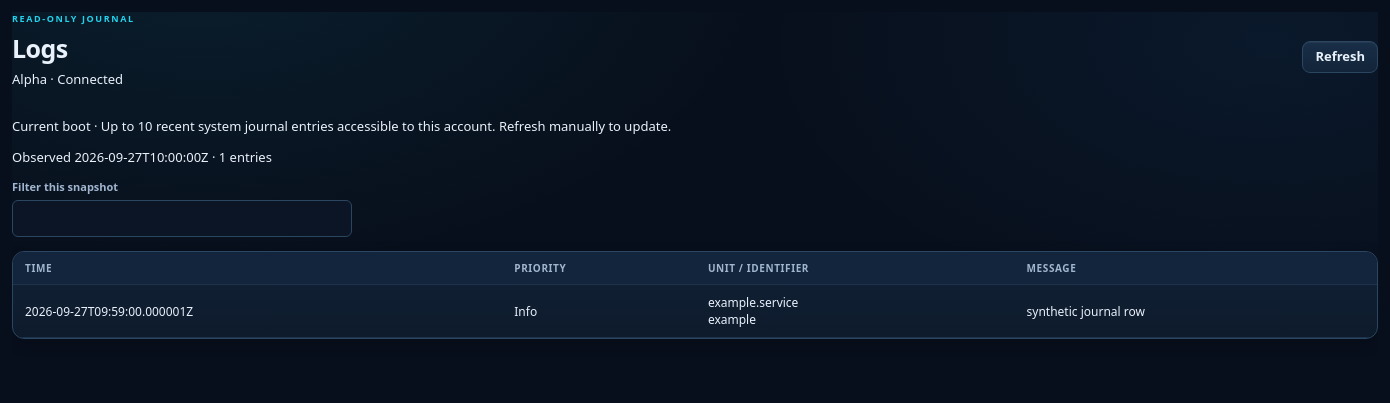
Test: session-owned Logs snapshot › keeps only the same-session snapshot after refresh failure with explicit stale wording
This screenshot has width=1390, height=403.
Check: the text "synthetic journal row" is shown, box [1014, 284, 1377, 338]
Click the button "Refresh" at (1340, 56), box [1302, 40, 1378, 72]
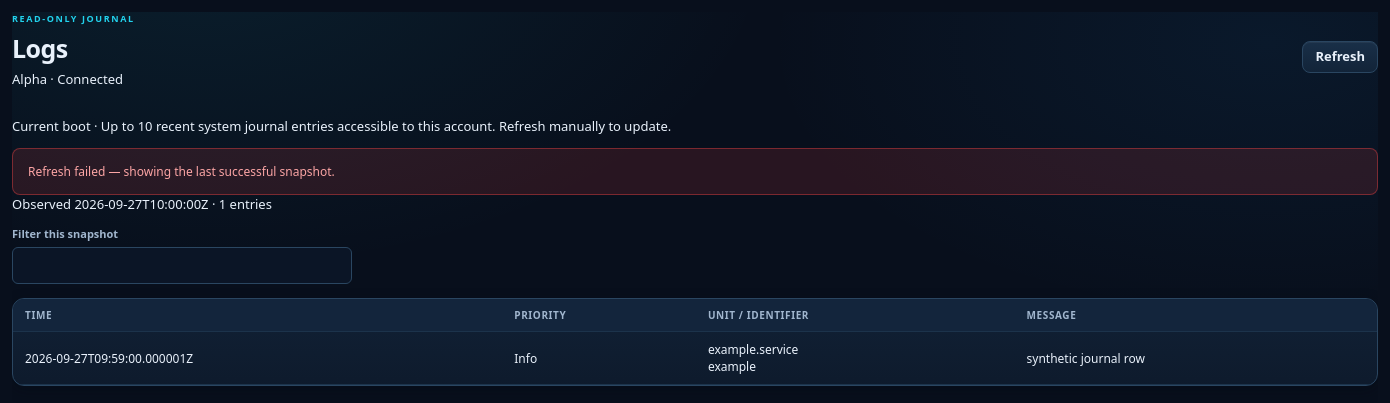
Check: the text "synthetic journal row" is shown, box [1014, 332, 1377, 385]
Check: the text "Refresh failed — showing the last successful snapshot." is shown, box [12, 148, 1378, 195]
